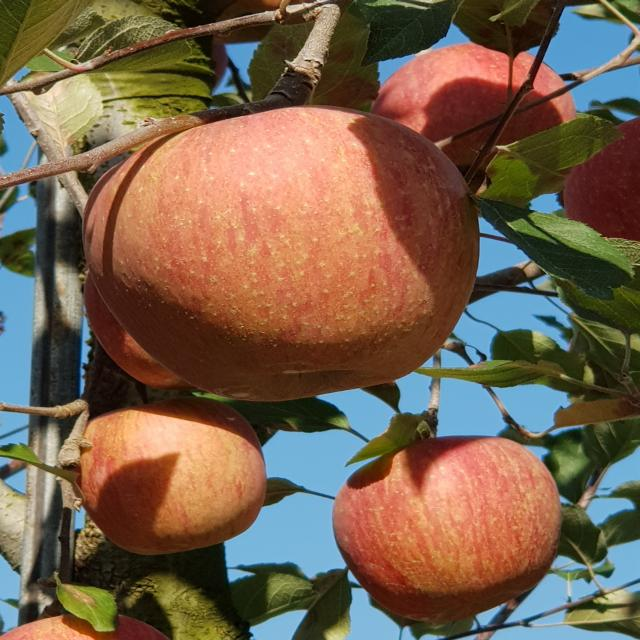fresh: (65, 102, 493, 410)
